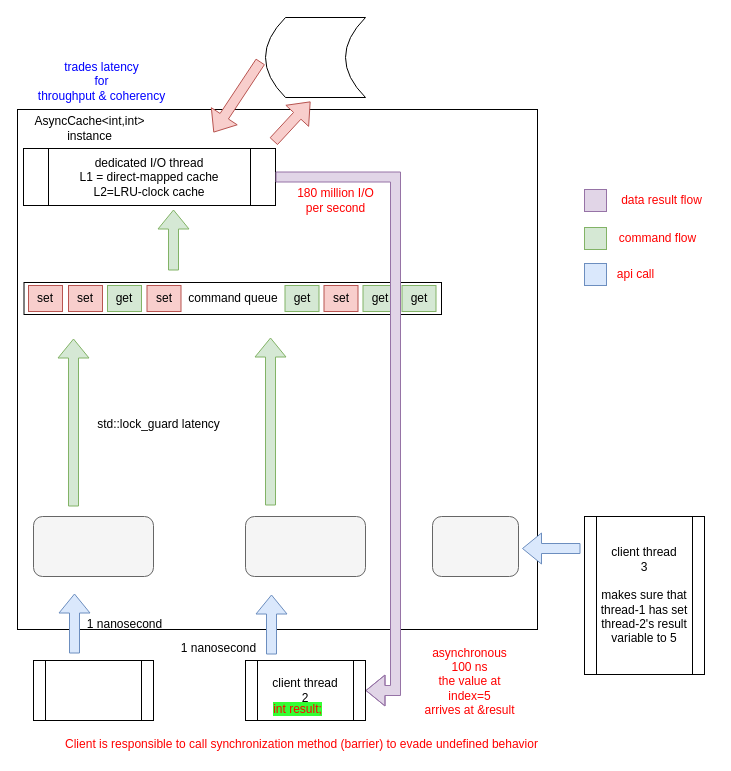
Image size: 731x771. Some labels were removed from this diagram. The centre of each missing label's shape, as x and y in pixels:
"Backing Store" belongs at point (315, 57).
"barrier(slot)" belongs at point (475, 546).
"client thread 1" belongs at point (93, 690).
"get(5,&result,slot)" belongs at point (305, 546).
"set(5,100,slot)" belongs at point (93, 546).
